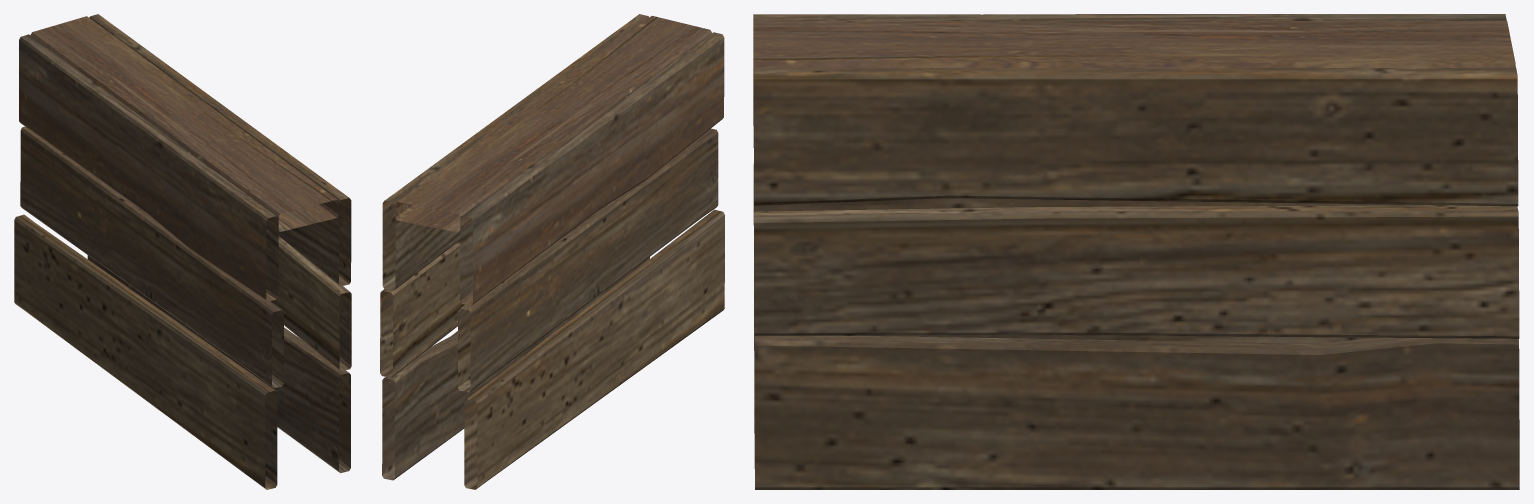
The model's file is Inter_Parkour_Vault.fbx.
3 renders of one model, left to right at view 1: azimuth 30°, elevation 25°; view 2: azimuth 150°, elevation 25°; view 3: azimuth 270°, elevation 25°, orthographic. The views are drawn at different scales.
Parts seen in each view (by area): view 1: SM_FAR_MazeWall_Vault_01.mo; view 2: SM_FAR_MazeWall_Vault_01.mo; view 3: SM_FAR_MazeWall_Vault_01.mo.
Part boxes in pixels (x1,y1,x2,y2): SM_FAR_MazeWall_Vault_01.mo: [14, 14, 351, 489]; SM_FAR_MazeWall_Vault_01.mo: [380, 14, 724, 489]; SM_FAR_MazeWall_Vault_01.mo: [753, 14, 1519, 489].
Size of the model in its own units: 37.01 by 103 by 171.
